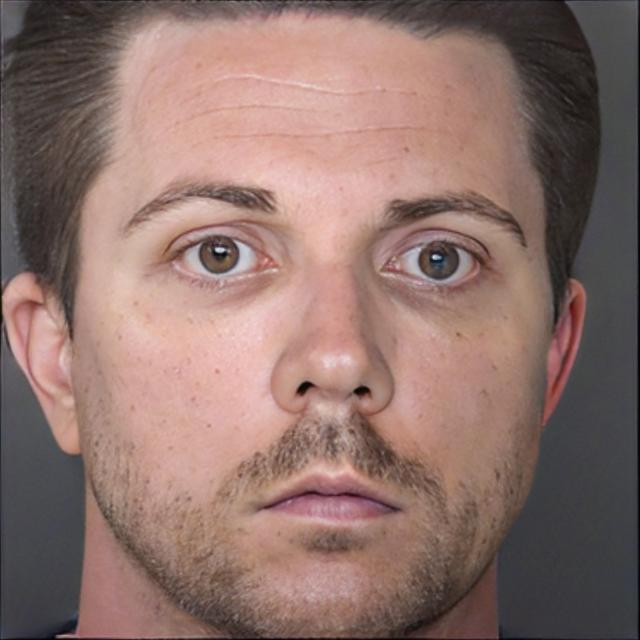neutral: (78, 0, 555, 636)
